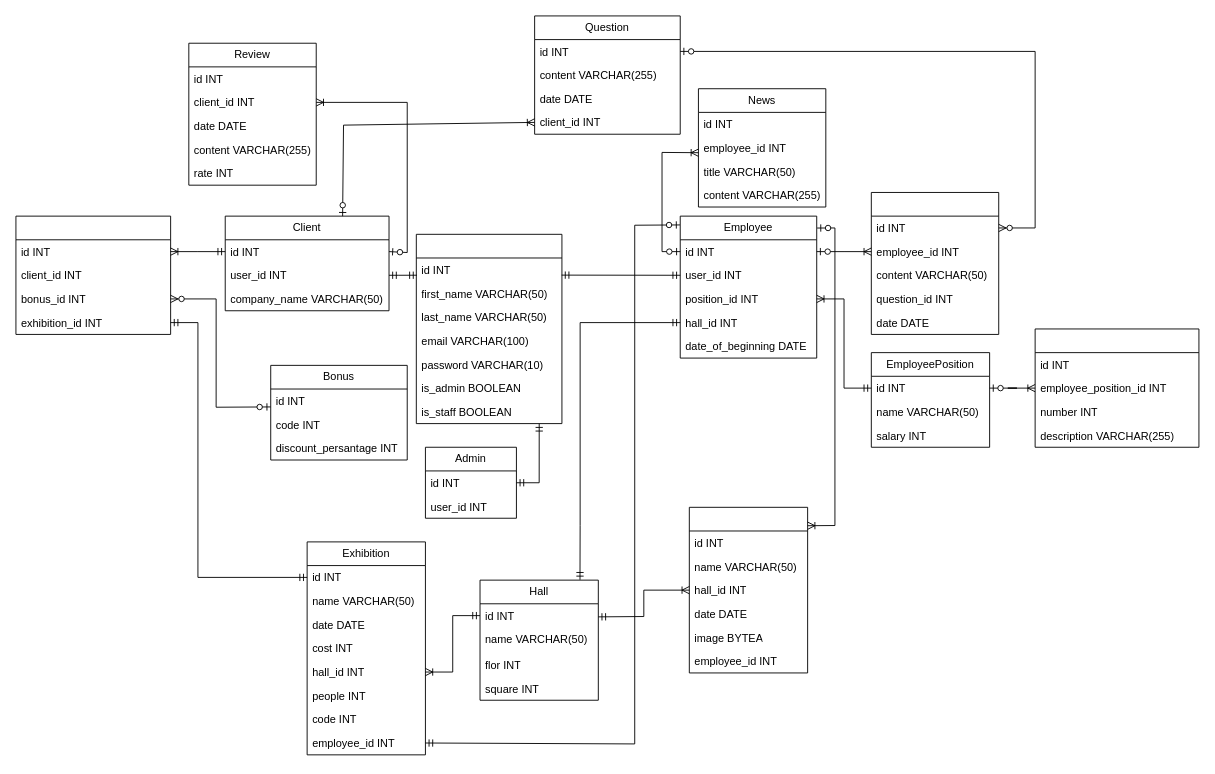
Image size: 1215x774. Some labels were removed from this diagram. Here are the shapes that lost their labels. From the top down, the box of each, then its label:
(15, 215, 171, 334): Order
(870, 192, 999, 334): Answer
(415, 233, 562, 424): User
(1034, 328, 1199, 447): Vacancy
(688, 506, 808, 673): Exhibit
